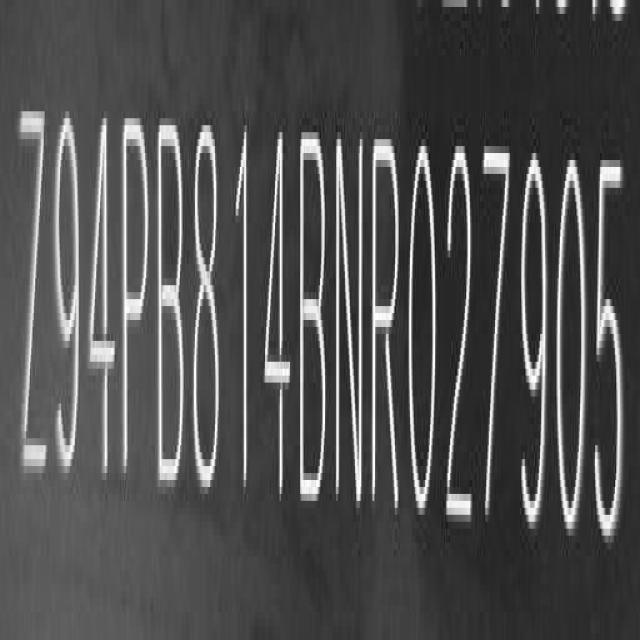0: (554, 154, 588, 543), (409, 138, 438, 529)
1: (234, 124, 252, 510)
2: (445, 143, 478, 538)
4: (261, 123, 294, 513), (87, 113, 117, 500)
5: (594, 152, 628, 552)
7: (481, 146, 512, 550)
8: (193, 124, 227, 502)
9: (517, 152, 550, 545), (49, 108, 81, 494)
B: (299, 122, 332, 513), (154, 113, 187, 500)
N: (334, 122, 364, 514)
P: (120, 112, 156, 498)
R: (370, 133, 403, 524)
Z: (17, 102, 48, 499)
